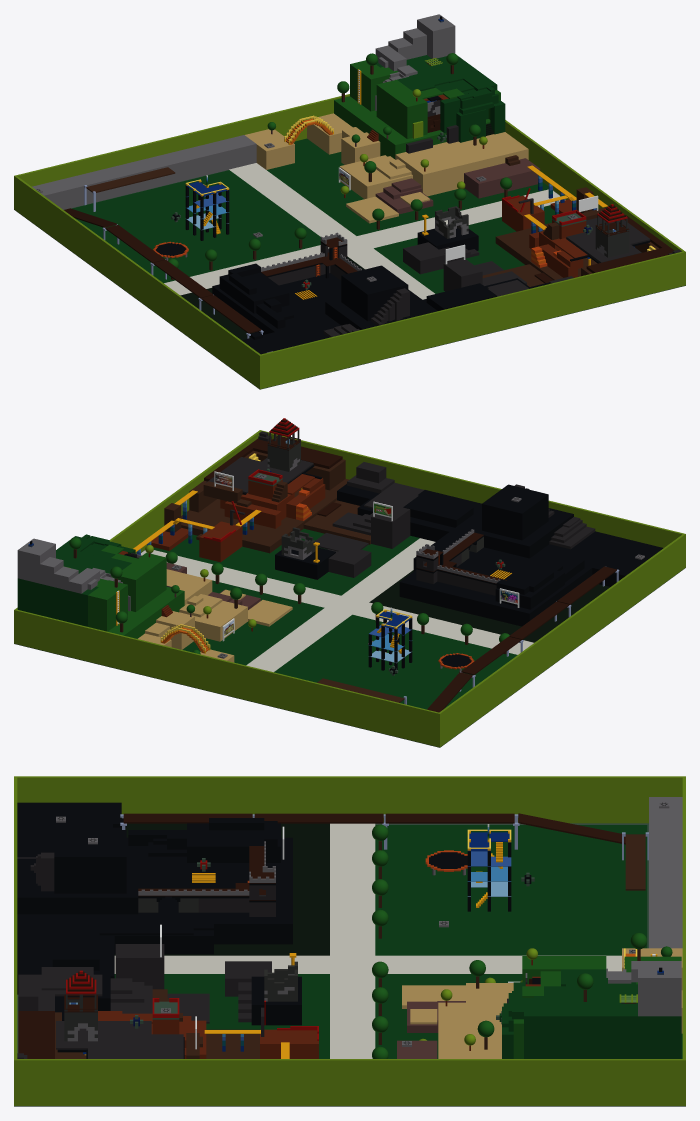
Rendered from Crossroads.glb.
3 renders of one model, top to bottom at view 1: azimuth 30°, elevation 25°; view 2: azimuth 150°, elevation 25°; view 3: azimuth 270°, elevation 25°, orthographic. The views are drawn at different scales.
Parts seen in each view (by area): view 1: mesh_id1187, mesh_id1178, mesh_id1185, mesh_id1177, mesh_id1179, mesh_id1188, mesh_id1283, mesh_id1182, mesh_id1184, mesh_id1186, mesh_id30, mesh_id34 (+33 smaller); view 2: mesh_id1188, mesh_id1178, mesh_id1185, mesh_id1187, mesh_id1182, mesh_id1184, mesh_id44, mesh_id1177, mesh_id1183, mesh_id30, mesh_id982, mesh_id34 (+40 smaller); view 3: mesh_id1186, mesh_id1178, mesh_id1185, mesh_id1268, mesh_id1183, mesh_id1182, mesh_id1181, mesh_id1179, mesh_id30, mesh_id44, mesh_id1184, mesh_id31 (+40 smaller).
Part boxes in pixels (left/top/right/bottom): mesh_id1187: left=258, top=251, right=685, bottom=389; mesh_id1178: left=72, top=170, right=320, bottom=283; mesh_id1185: left=15, top=176, right=260, bottom=387; mesh_id1177: left=267, top=138, right=548, bottom=235; mesh_id1179: left=32, top=135, right=256, bottom=209; mesh_id1188: left=14, top=94, right=349, bottom=209; mesh_id1283: left=395, top=132, right=528, bottom=196; mesh_id1182: left=229, top=163, right=434, bottom=299; mesh_id1184: left=374, top=205, right=554, bottom=293; mesh_id1186: left=505, top=120, right=683, bottom=251; mesh_id30: left=341, top=265, right=408, bottom=321; mesh_id34: left=241, top=294, right=339, bottom=346; mesh_id1188: left=14, top=609, right=441, bottom=747; mesh_id1178: left=274, top=614, right=517, bottom=709; mesh_id1185: left=439, top=534, right=684, bottom=745; mesh_id1187: left=259, top=430, right=685, bottom=567; mesh_id1182: left=246, top=538, right=435, bottom=672; mesh_id1184: left=153, top=528, right=419, bottom=595; mesh_id44: left=399, top=569, right=558, bottom=626; mesh_id1177: left=182, top=580, right=324, bottom=665; mesh_id1183: left=369, top=570, right=610, bottom=642; mesh_id30: left=482, top=484, right=548, bottom=540; mesh_id982: left=181, top=479, right=349, bottom=553; mesh_id34: left=504, top=531, right=629, bottom=599; mesh_id1186: left=17, top=1059, right=682, bottom=1105; mesh_id1178: left=375, top=825, right=647, bottom=955; mesh_id1185: left=17, top=776, right=682, bottom=823; mesh_id1268: left=524, top=1003, right=681, bottom=1058; mesh_id1183: left=114, top=823, right=329, bottom=955; mesh_id1182: left=114, top=955, right=621, bottom=973; mesh_id1181: left=330, top=823, right=375, bottom=955; mesh_id1179: left=649, top=797, right=682, bottom=948; mesh_id30: left=54, top=830, right=126, bottom=893; mesh_id44: left=214, top=837, right=292, bottom=944; mesh_id1184: left=114, top=974, right=329, bottom=1058; mesh_id31: left=17, top=858, right=138, bottom=914.
Bounding box in the file's own units: 0.512 × 0.1121 × 0.512.
Materials: 1689 (1689 with a texture image).
